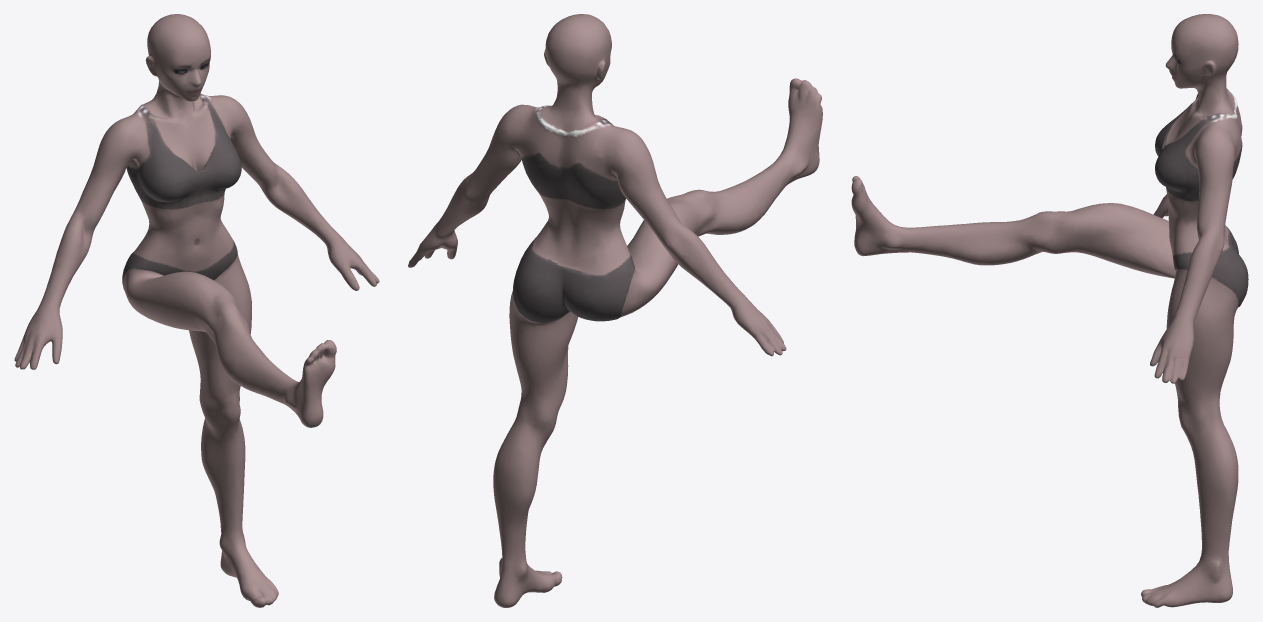
File: full-ThighL-90.glb
3 renders of one model, left to right at view 1: azimuth 30°, elevation 25°; view 2: azimuth 150°, elevation 25°; view 3: azimuth 270°, elevation 25°, orthographic. The views are drawn at different scales.
Visible parts, largest first — view 1: full-ThighL-90; view 2: full-ThighL-90; view 3: full-ThighL-90.
Boxes of the visible parts, bbox=[...] form: full-ThighL-90: bbox=[14, 14, 379, 607]; full-ThighL-90: bbox=[408, 14, 822, 607]; full-ThighL-90: bbox=[851, 14, 1248, 607].
Bounding box in the file's own units: 0.6509 × 1 × 0.645.
Materials: 1 (1 with a texture image).
